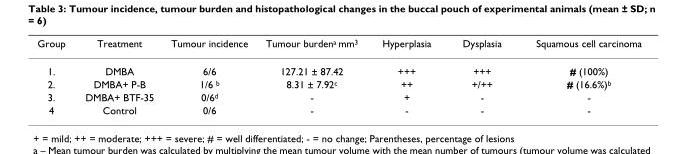table: (36, 36, 641, 115)
table column: (518, 36, 641, 115), (256, 36, 369, 115), (161, 36, 256, 115), (74, 36, 161, 115), (369, 36, 446, 115), (446, 36, 518, 115), (36, 36, 74, 115)
table column header: (36, 36, 641, 56)
table row: (36, 56, 641, 77), (36, 36, 641, 56), (36, 77, 641, 90), (36, 90, 641, 103), (36, 103, 641, 115)
